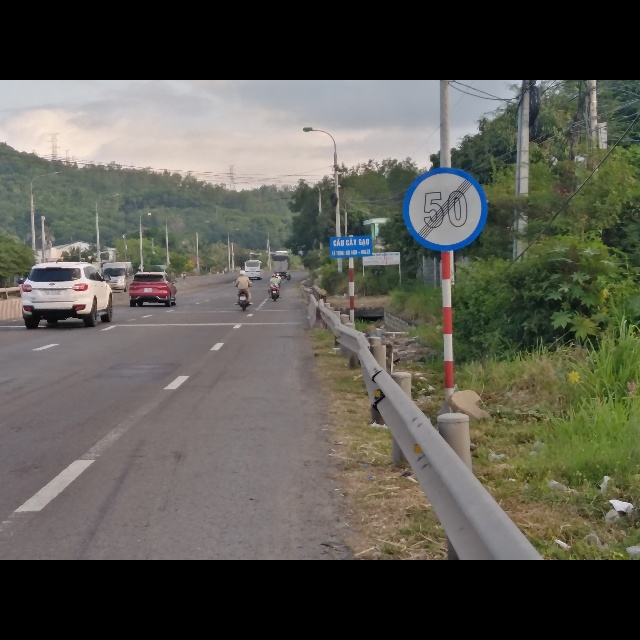Hết hạn chế tốc độ tối đa 50km/h: (402, 167, 489, 255)
